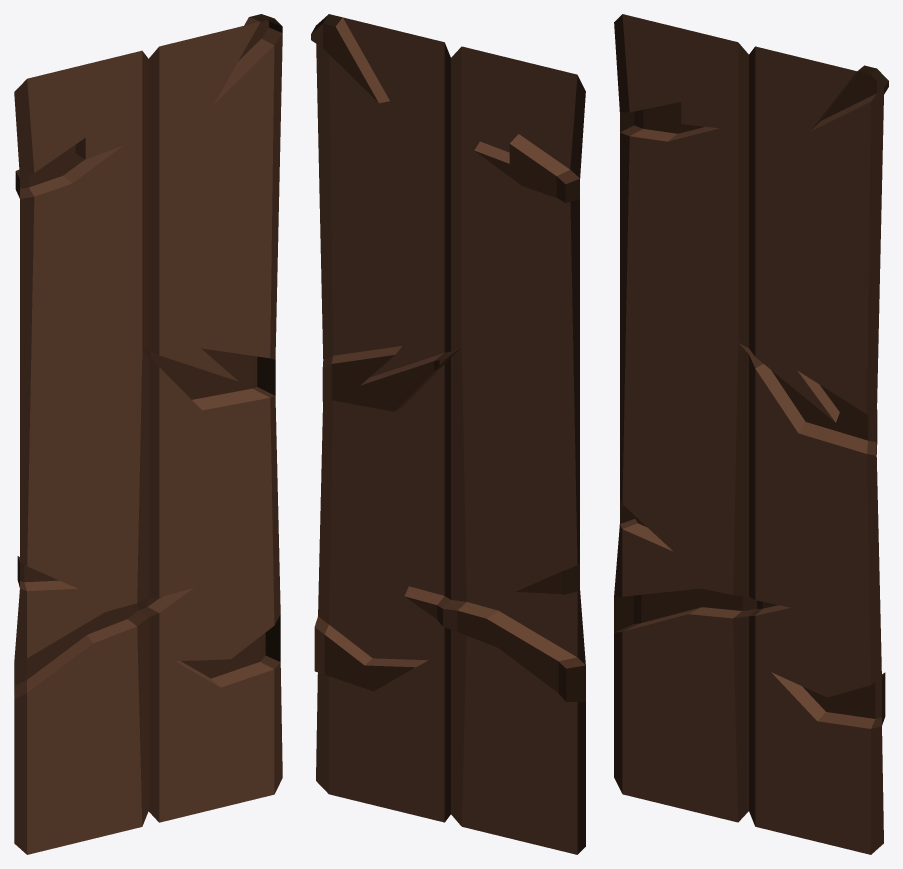
Rendered from breakable_woodenWall_lowDmg_mod_01.fbx.
3 renders of one model, left to right at view 1: azimuth 30°, elevation 25°; view 2: azimuth 150°, elevation 25°; view 3: azimuth 330°, elevation 25°, orthographic.
Visible parts, largest first — view 1: Cube; view 2: Cube; view 3: Cube.
Boxes of the visible parts, <box> form: Cube: <box>14,14,282,854</box>; Cube: <box>311,14,585,854</box>; Cube: <box>614,14,888,854</box>.
Bounding box in the file's own units: 2.17 × 0.1634 × 6.
